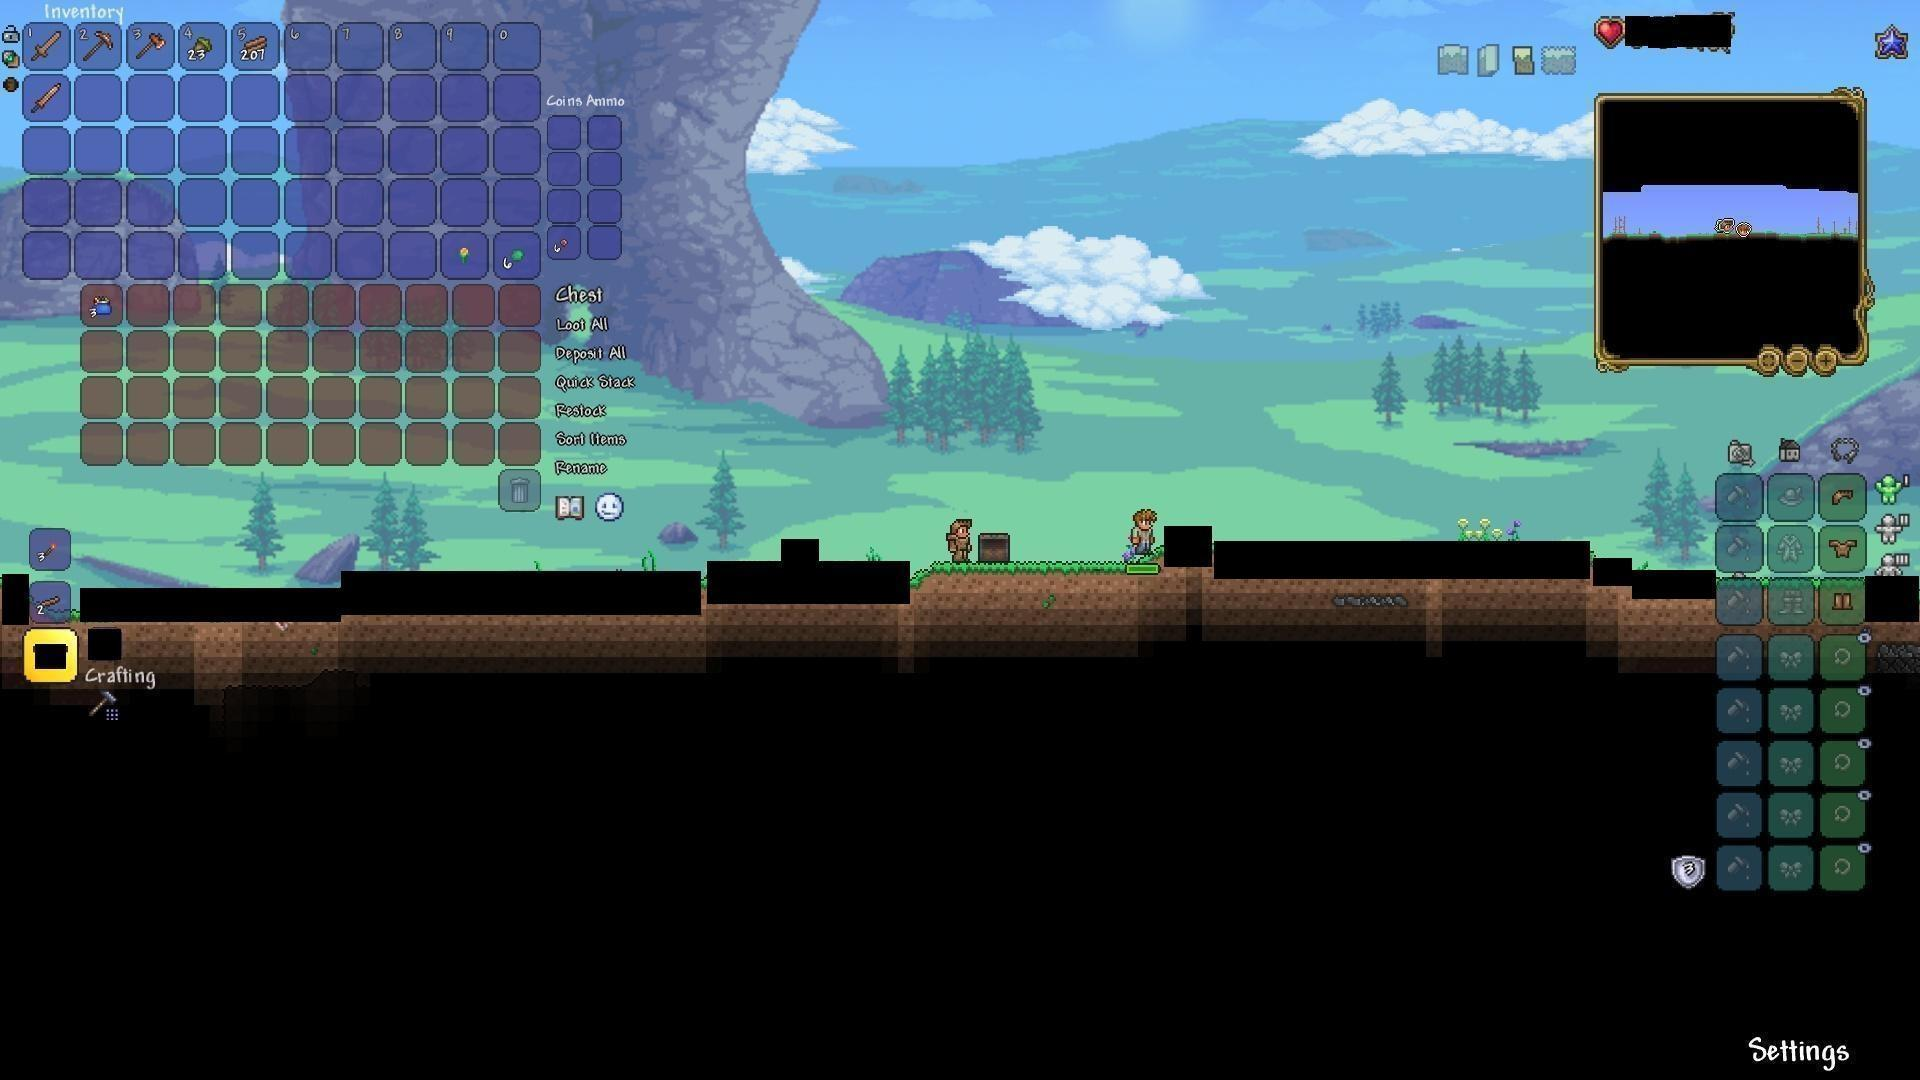breastplate: (1829, 537, 1859, 558)
dirt: (915, 555, 1160, 595)
heart: (1596, 15, 1625, 44)
helmet: (1826, 483, 1858, 512)
legs: (1832, 589, 1857, 616)
wood: (239, 29, 272, 59)
